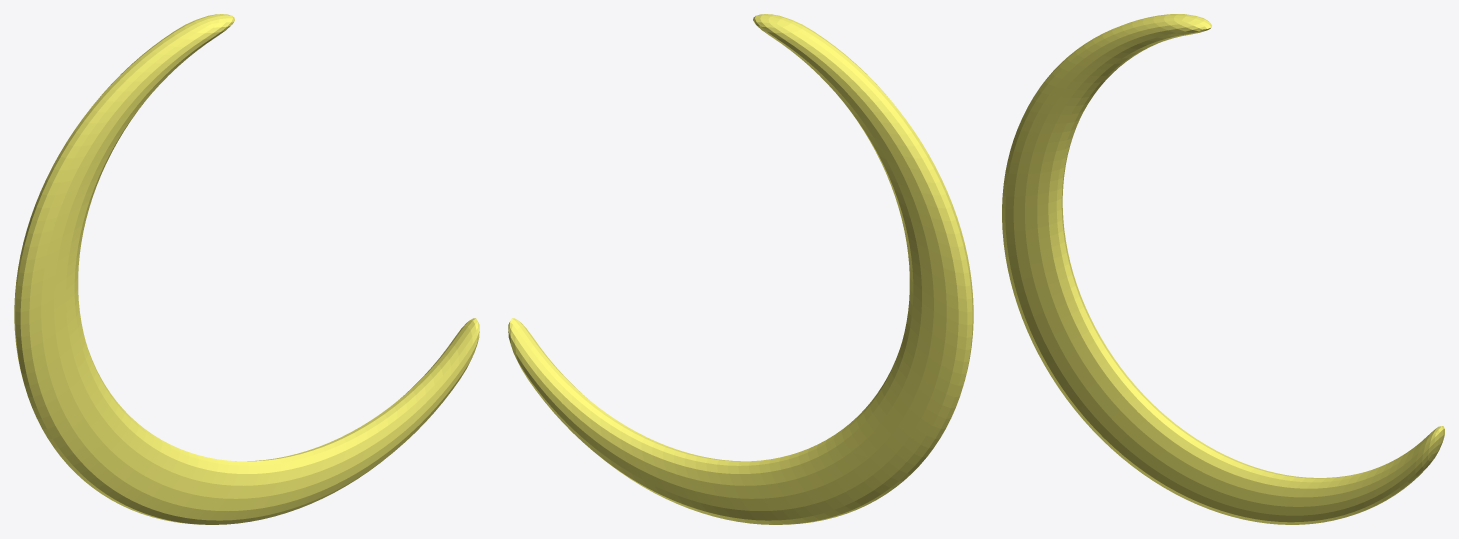
The model's file is sunny night.fbx.
The picture shows the model from 3 angles, left to right: view 1: azimuth 30°, elevation 25°; view 2: azimuth 150°, elevation 25°; view 3: azimuth 330°, elevation 25°; orthographic projection. The views are drawn at different scales.
Visible parts, largest first — view 1: Окружность.002; view 2: Окружность.002; view 3: Окружность.002.
Boxes of the visible parts, x1,y1,x2,y2 form: Окружность.002: (14, 14, 479, 524); Окружность.002: (508, 14, 973, 524); Окружность.002: (1002, 14, 1444, 524).
Bounding box in the file's own units: 209 × 12.28 × 222.
